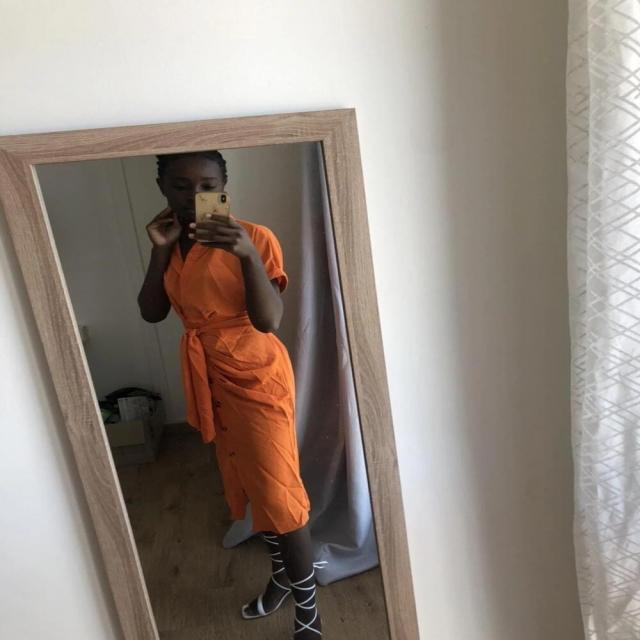clothes: (119, 215, 345, 554)
